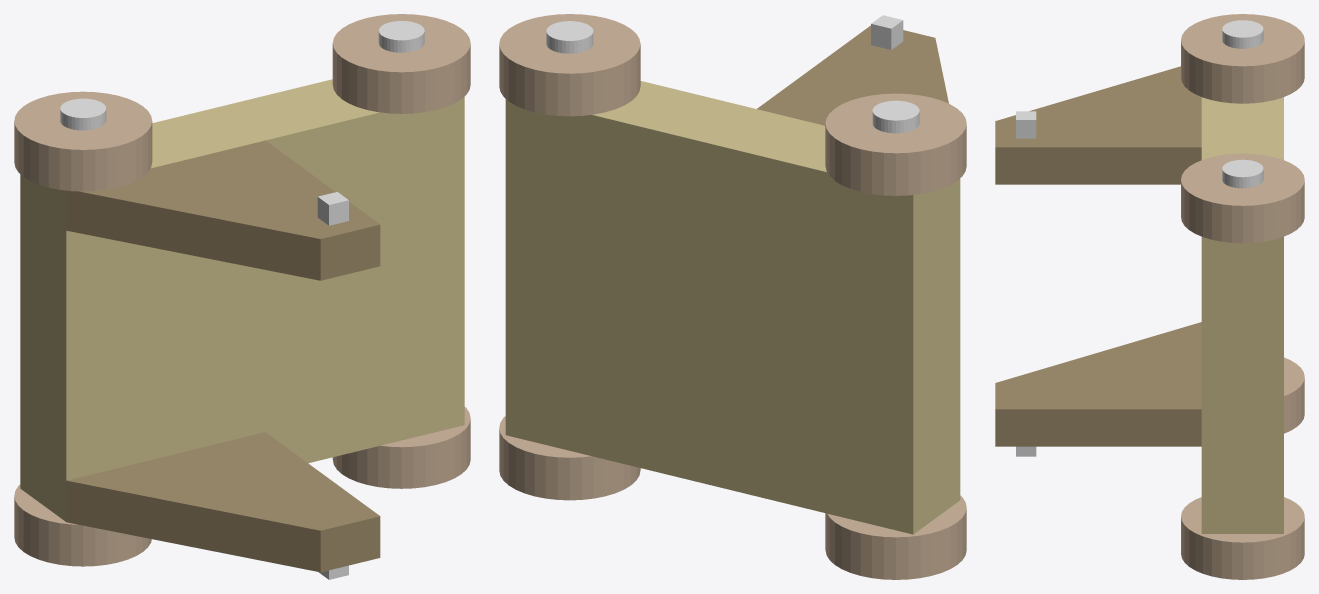
Rendered from cannon.gltf.
3 renders of one model, left to right at view 1: azimuth 30°, elevation 25°; view 2: azimuth 150°, elevation 25°; view 3: azimuth 270°, elevation 25°, orthographic. The views are drawn at different scales.
Parts seen in each view (by area): view 1: b_cannon_base_001_, b_cannon_support_001_001, b_cannon_support_001_, b_cannon_wheel_001_, b_cannon_wheel_001_001, b_cannon_wheel_001_003, b_cannon_wheel_001_002, b_cannon_wheel_pin_001_, b_cannon_wheel_pin_001_001, b_cannon_support_pin_001_; view 2: b_cannon_base_001_, b_cannon_wheel_001_001, b_cannon_wheel_001_, b_cannon_support_001_, b_cannon_wheel_001_002, b_cannon_wheel_001_003, b_cannon_wheel_pin_001_, b_cannon_wheel_pin_001_001, b_cannon_support_pin_001_; view 3: b_cannon_base_001_, b_cannon_support_001_001, b_cannon_support_001_, b_cannon_wheel_001_, b_cannon_wheel_001_001, b_cannon_wheel_001_003, b_cannon_wheel_001_002, b_cannon_wheel_pin_001_001, b_cannon_wheel_pin_001_, b_cannon_support_pin_001_.
Boxes of the visible parts, x1,y1,x2,y2 form: b_cannon_base_001_: (20, 79, 464, 521); b_cannon_support_001_001: (66, 432, 380, 572); b_cannon_support_001_: (66, 140, 380, 280); b_cannon_wheel_001_: (14, 91, 152, 191); b_cannon_wheel_001_001: (332, 14, 470, 113); b_cannon_wheel_001_003: (332, 407, 470, 488); b_cannon_wheel_001_002: (14, 484, 151, 566); b_cannon_wheel_pin_001_: (60, 98, 106, 130); b_cannon_wheel_pin_001_001: (378, 21, 424, 52); b_cannon_support_pin_001_: (317, 192, 348, 225); b_cannon_base_001_: (505, 81, 960, 534); b_cannon_wheel_001_001: (499, 14, 640, 116); b_cannon_wheel_001_: (825, 93, 966, 195); b_cannon_support_001_: (757, 25, 948, 125); b_cannon_wheel_001_002: (825, 495, 966, 579); b_cannon_wheel_001_003: (499, 416, 640, 500); b_cannon_wheel_pin_001_: (872, 100, 919, 133); b_cannon_wheel_pin_001_001: (546, 21, 593, 53); b_cannon_support_pin_001_: (871, 15, 903, 49); b_cannon_base_001_: (1201, 97, 1283, 533); b_cannon_support_001_001: (995, 322, 1201, 446); b_cannon_support_001_: (995, 66, 1201, 184); b_cannon_wheel_001_: (1181, 14, 1304, 103); b_cannon_wheel_001_001: (1181, 153, 1304, 243); b_cannon_wheel_001_003: (1181, 497, 1304, 579); b_cannon_wheel_001_002: (1284, 357, 1304, 433); b_cannon_wheel_pin_001_001: (1222, 159, 1263, 188); b_cannon_wheel_pin_001_: (1222, 20, 1263, 48); b_cannon_support_pin_001_: (1016, 111, 1036, 138).
Size of the model in its own units: 110 by 106 by 75.
